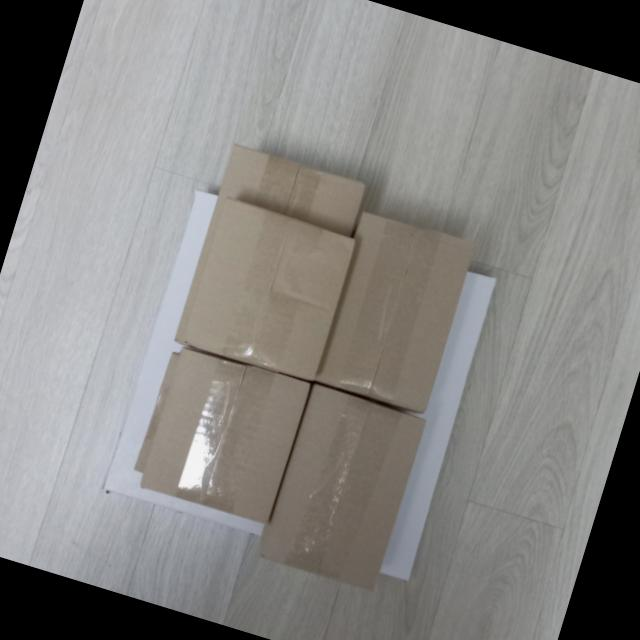box: (254, 381, 431, 599), (308, 211, 479, 421), (178, 192, 362, 385), (134, 342, 314, 530)
